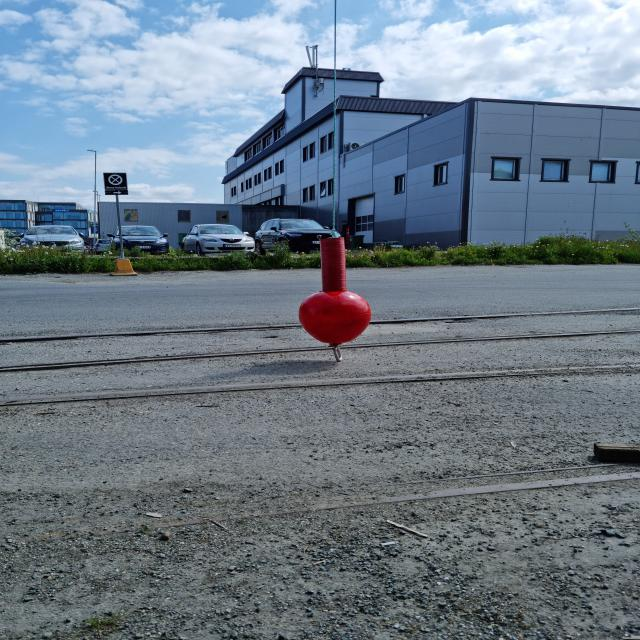red: (298, 238, 372, 345)
